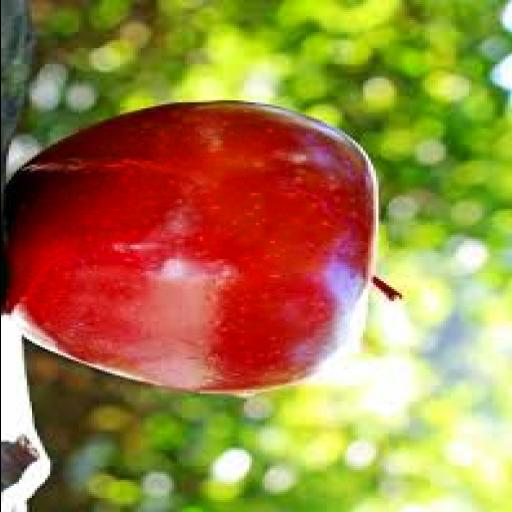apple: (6, 103, 395, 393)
